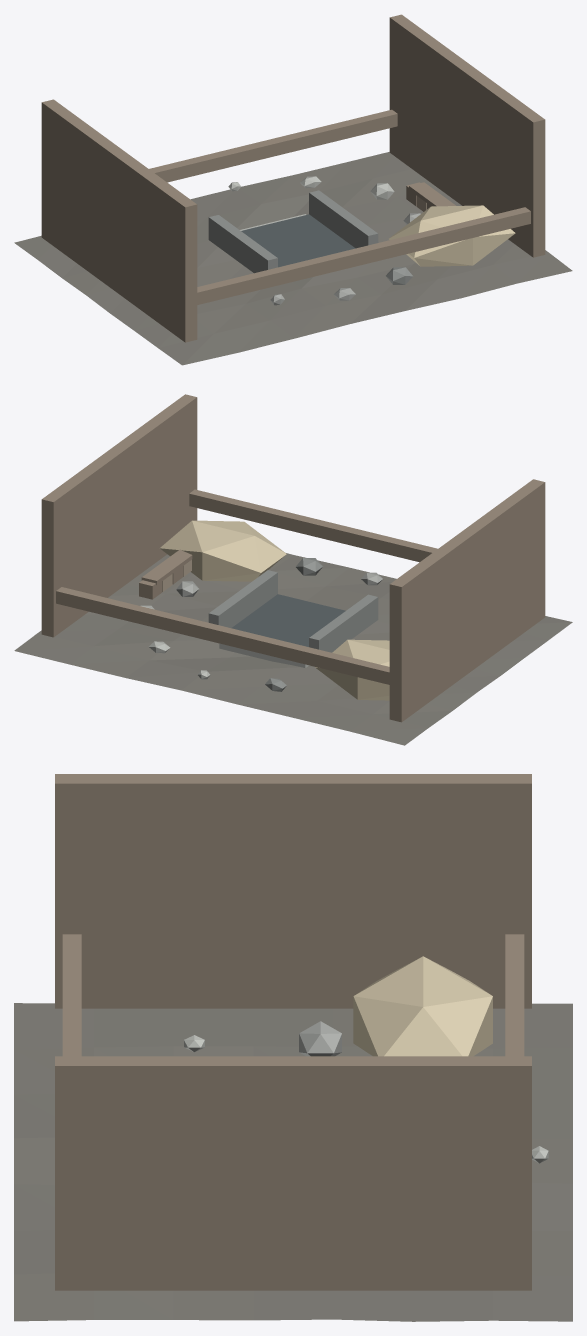
File: straw_barn_hatch_revealed.glb
3 views of the same model, one above another, from view 1: azimuth 30°, elevation 25°; view 2: azimuth 150°, elevation 25°; view 3: azimuth 270°, elevation 25° (orthographic). The views are drawn at different scales.
Parts seen in each view (by area): view 1: straw_barn_hatch_revealed_color_04, straw_barn_hatch_revealed_color_00, straw_barn_hatch_revealed_color_03, straw_barn_hatch_revealed_color_05, straw_barn_hatch_revealed_color_06, straw_barn_hatch_revealed_color_02, straw_barn_hatch_revealed_color_01; view 2: straw_barn_hatch_revealed_color_04, straw_barn_hatch_revealed_color_00, straw_barn_hatch_revealed_color_05, straw_barn_hatch_revealed_color_03, straw_barn_hatch_revealed_color_06, straw_barn_hatch_revealed_color_02, straw_barn_hatch_revealed_color_01; view 3: straw_barn_hatch_revealed_color_04, straw_barn_hatch_revealed_color_00, straw_barn_hatch_revealed_color_05, straw_barn_hatch_revealed_color_01.
Boxes of the visible parts, x1,y1,x2,y2 form: straw_barn_hatch_revealed_color_04: [41, 14, 545, 342]; straw_barn_hatch_revealed_color_00: [14, 152, 572, 365]; straw_barn_hatch_revealed_color_03: [208, 190, 412, 284]; straw_barn_hatch_revealed_color_05: [389, 205, 515, 266]; straw_barn_hatch_revealed_color_06: [241, 214, 355, 267]; straw_barn_hatch_revealed_color_02: [228, 176, 394, 230]; straw_barn_hatch_revealed_color_01: [270, 213, 420, 305]; straw_barn_hatch_revealed_color_04: [41, 394, 545, 722]; straw_barn_hatch_revealed_color_00: [14, 553, 572, 745]; straw_barn_hatch_revealed_color_05: [160, 520, 389, 700]; straw_barn_hatch_revealed_color_03: [208, 558, 378, 691]; straw_barn_hatch_revealed_color_06: [231, 594, 345, 646]; straw_barn_hatch_revealed_color_02: [141, 605, 309, 679]; straw_barn_hatch_revealed_color_01: [176, 572, 382, 596]; straw_barn_hatch_revealed_color_04: [55, 774, 531, 1290]; straw_barn_hatch_revealed_color_00: [14, 1003, 572, 1321]; straw_barn_hatch_revealed_color_05: [353, 956, 492, 1056]; straw_barn_hatch_revealed_color_01: [299, 1021, 341, 1056].
Bounding box in the file's own units: 3.93 × 1.59 × 2.93.
